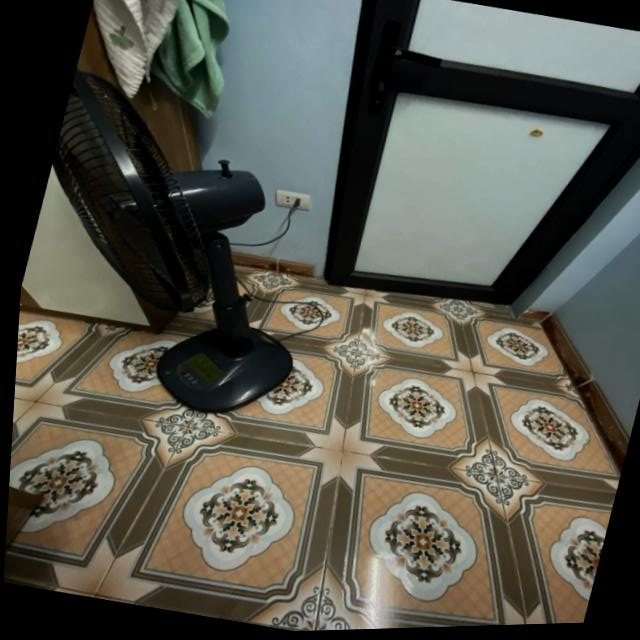outlet: (272, 189, 313, 213)
